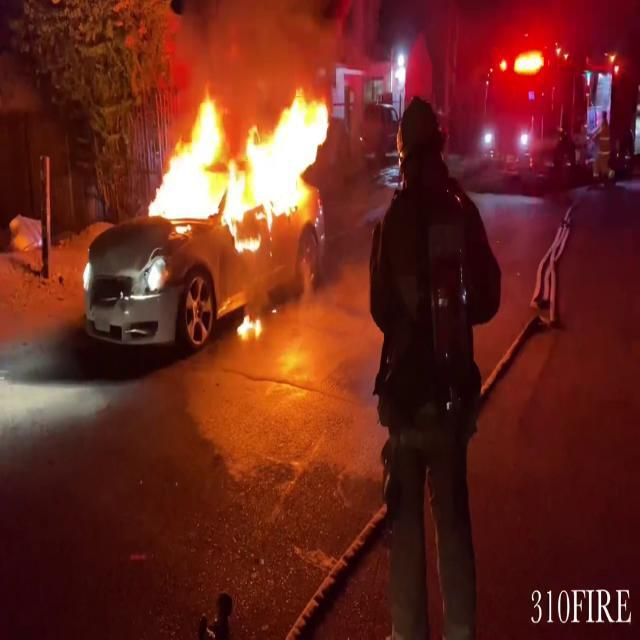Fire: (146, 78, 334, 230), (234, 302, 264, 346)
